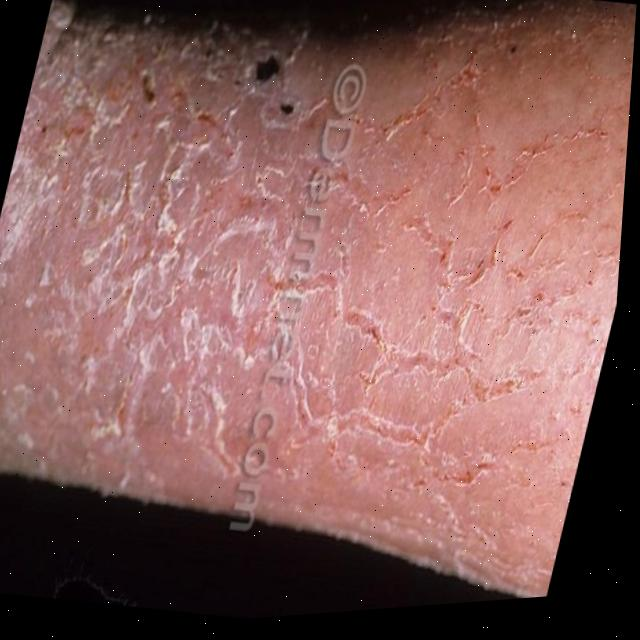Eczema: (0, 0, 639, 581)
